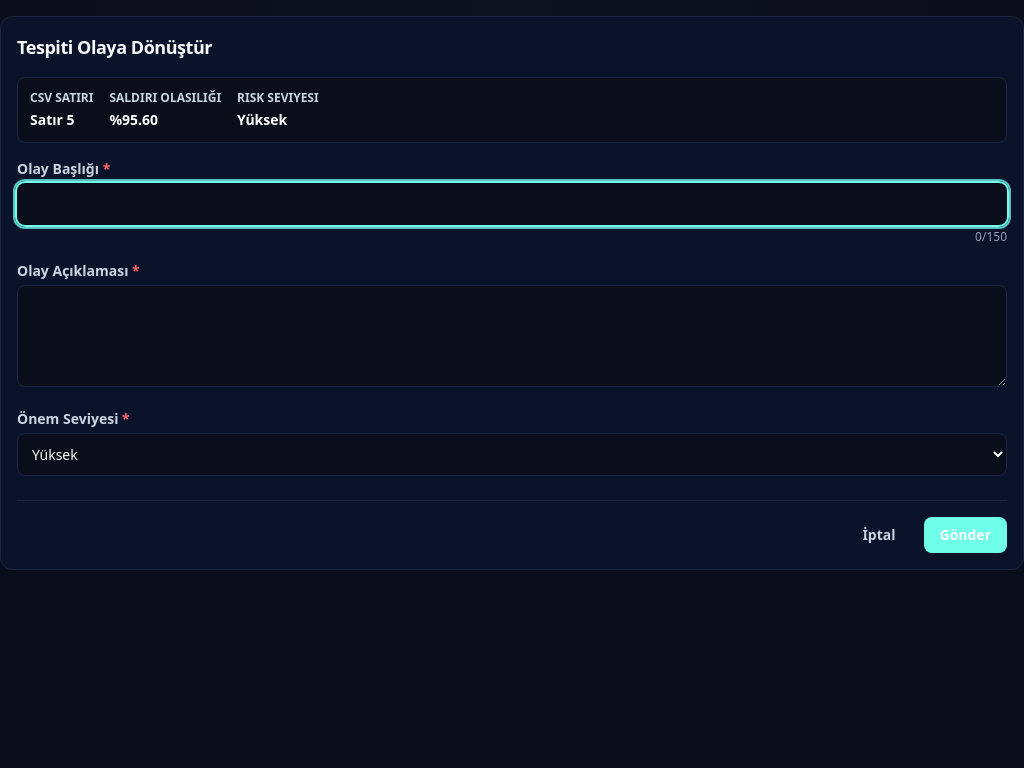
IncidentCreateForm › prevents empty description submission (req 8)
The width and height of the screenshot is (1024, 768).
Type "Valid title" into the field labelled "Olay Başlığı *".
click(512, 204); type("Valid title")  # box [17, 183, 1007, 225]
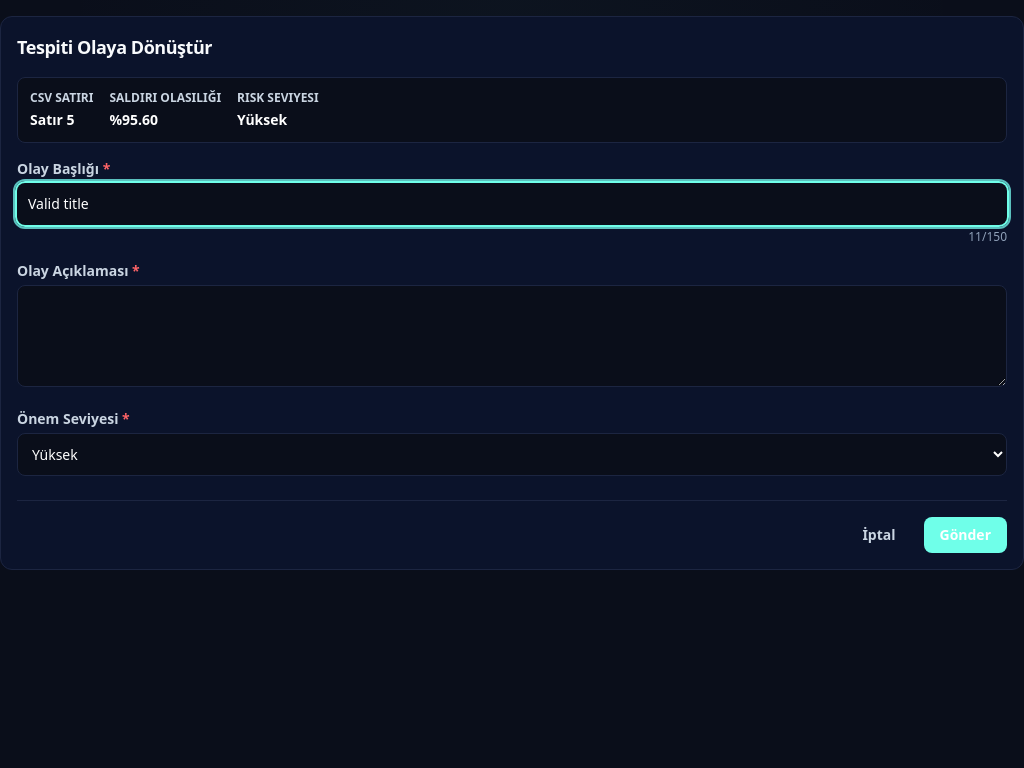
Click the button "Gönder".
click(965, 535)  # box [924, 517, 1007, 553]
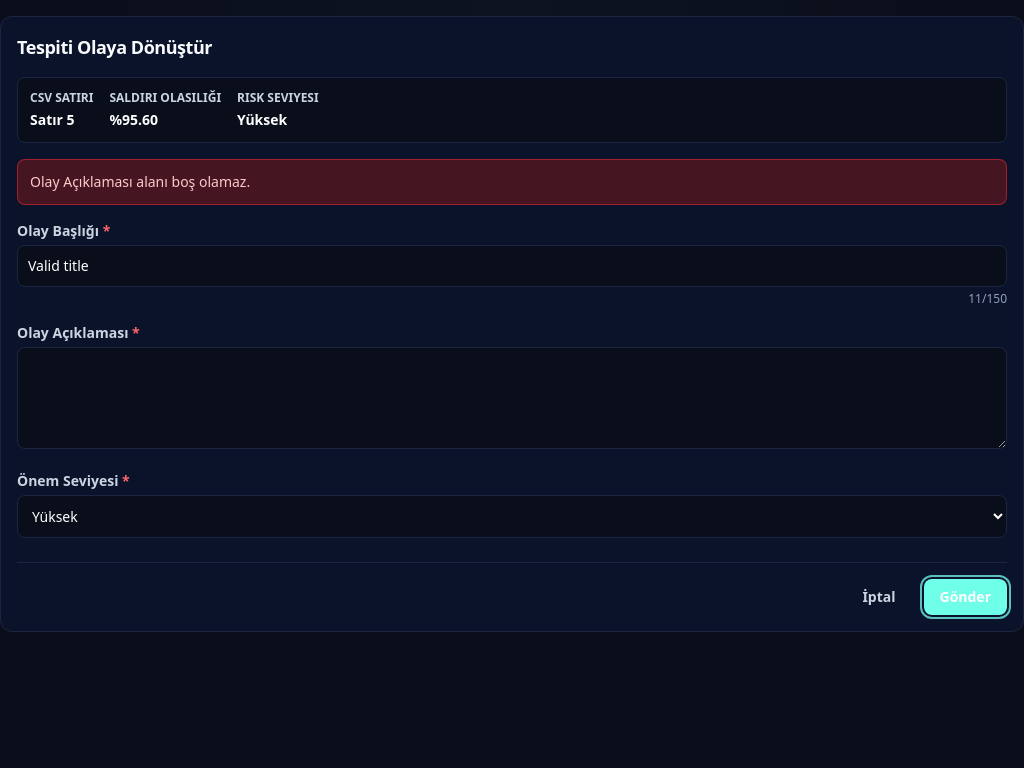
Check: the message reads "Olay Açıklaması alanı boş olamaz.", box [30, 172, 250, 191]
